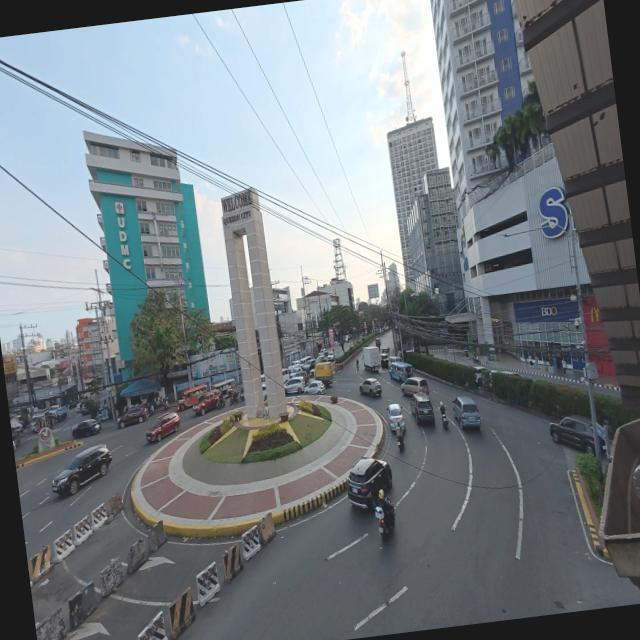Jeepneys: (178, 384, 210, 410), (178, 384, 208, 410), (390, 358, 413, 382), (212, 377, 237, 399)
car: (52, 445, 111, 495), (348, 458, 392, 508), (550, 415, 595, 453), (146, 412, 180, 442), (453, 396, 481, 428), (411, 393, 435, 424), (193, 390, 222, 415), (117, 406, 148, 428), (401, 377, 429, 396), (72, 419, 101, 437), (389, 404, 405, 431), (360, 378, 382, 397), (284, 377, 306, 395), (304, 381, 325, 395), (474, 366, 487, 386), (31, 414, 45, 432), (295, 369, 309, 384), (499, 370, 522, 378), (380, 354, 389, 369), (48, 405, 60, 415), (389, 356, 402, 364), (81, 403, 89, 415), (293, 360, 302, 369), (262, 382, 267, 398), (316, 354, 325, 362), (76, 402, 82, 413), (327, 352, 334, 361), (375, 338, 381, 348), (345, 335, 349, 343), (13, 441, 16, 451)
motorcycle: (376, 499, 395, 541), (441, 403, 448, 428), (157, 397, 169, 409), (229, 392, 240, 405), (397, 431, 404, 451), (472, 353, 481, 364), (147, 403, 155, 415), (239, 389, 245, 402)
trucks: (314, 362, 334, 386), (363, 347, 380, 371)
vans: (282, 369, 289, 383)
